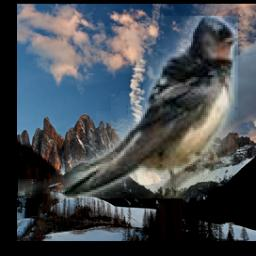Swallow: (18, 17, 238, 199)
